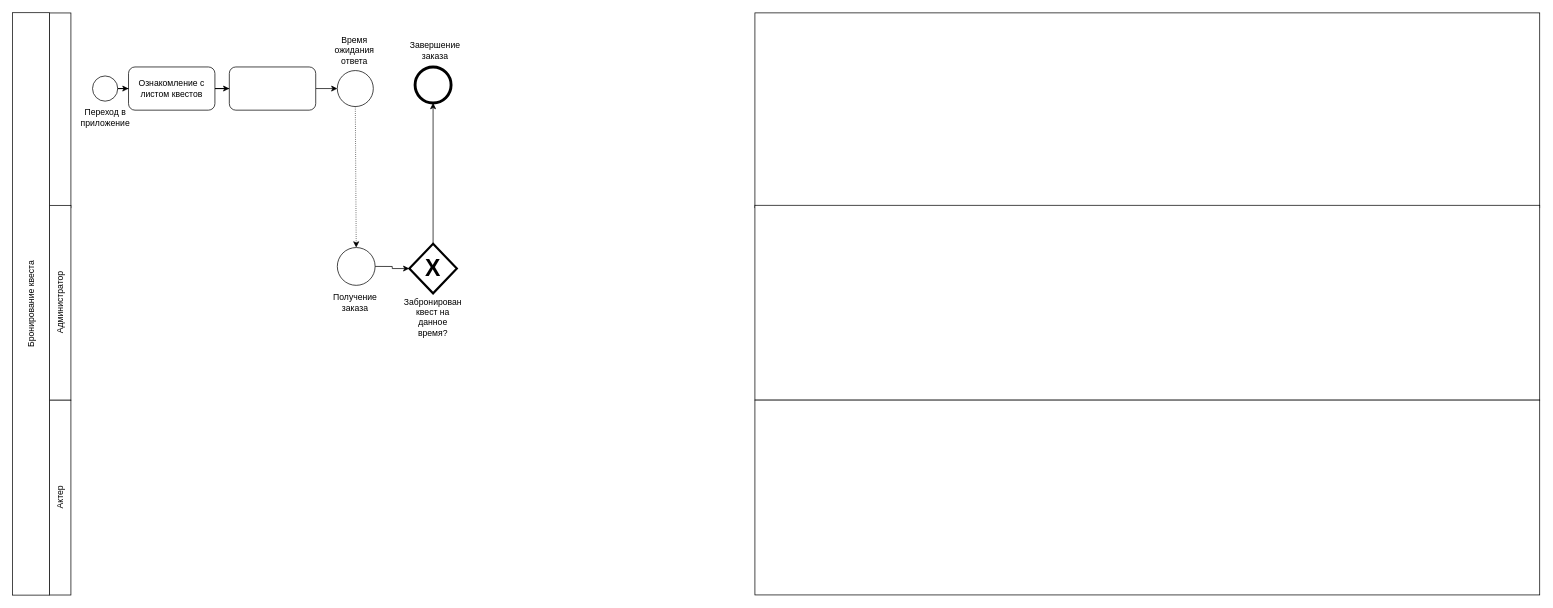
Some shapes in this 1553 by 608 pixel diagram are drawn without their labels. The box of each missing label's shape, as (x1, y1, x2, y2) in pixels:
Клиент: (49, 12, 71, 208)
Оформление бронирование квеста: (229, 66, 316, 110)
